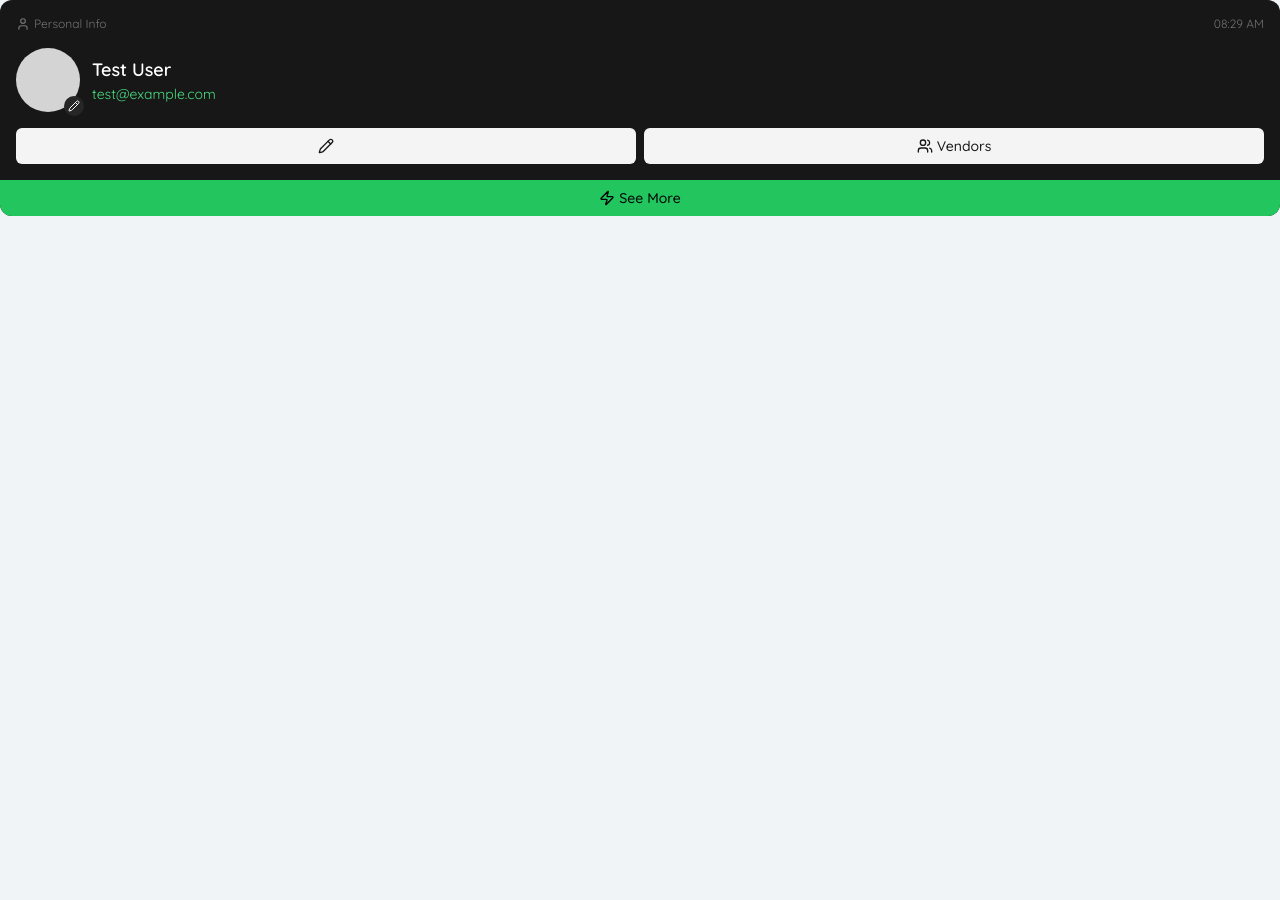
Test case: PersonalInfoSection › handles missing details gracefully
This screenshot has width=1280, height=900.
What coordinates should you click on to do the following:
click the button "See More"
I would click on:
 (640, 198)
Its box is [0,180,1279,216].
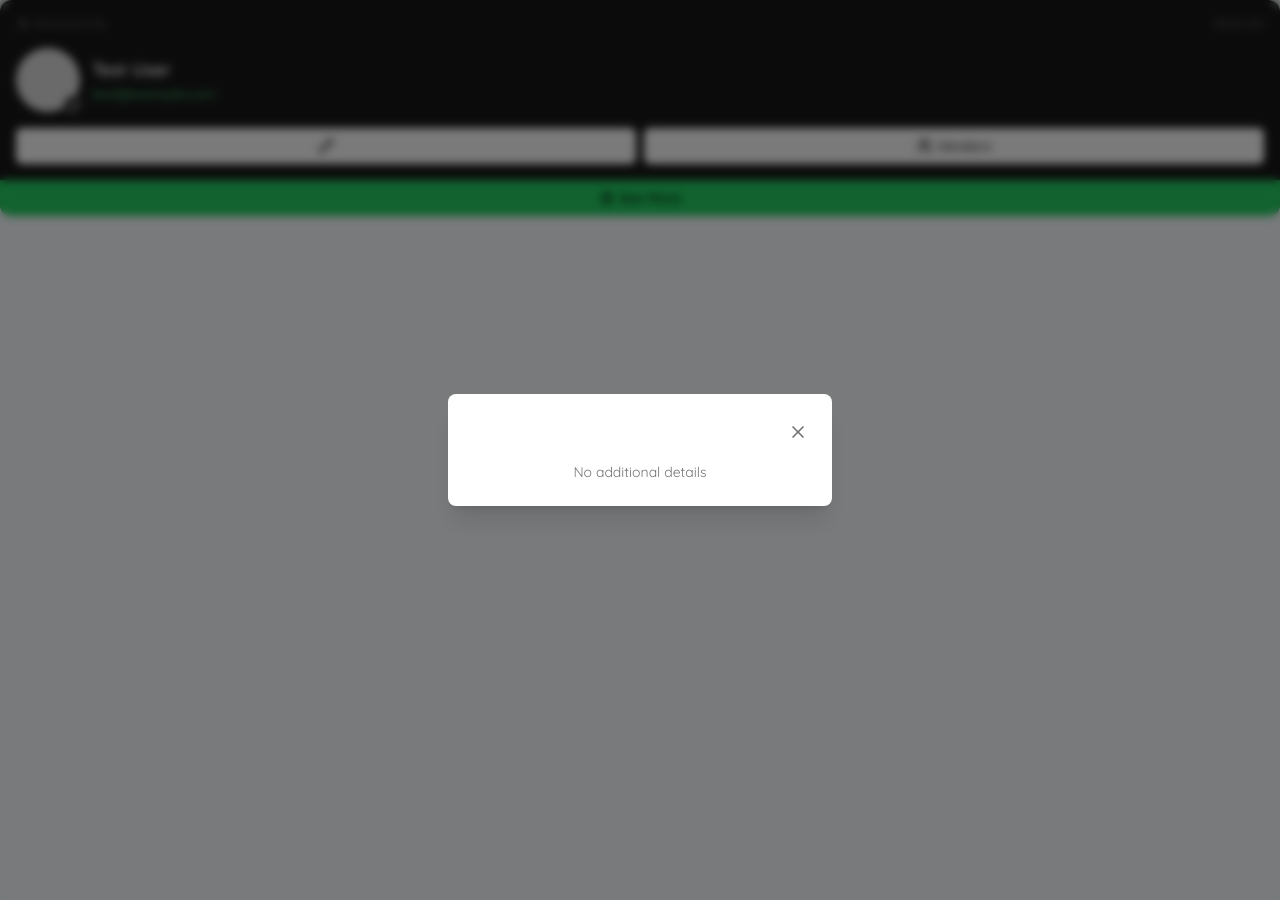
expect the text "No additional details" is shown: met, box [573,463,706,481]
